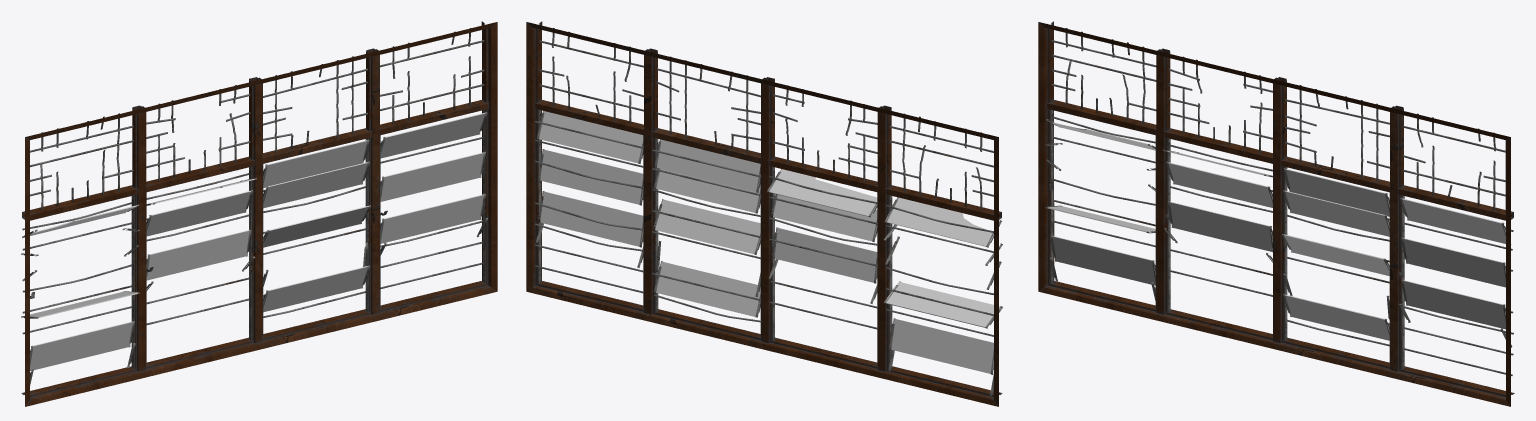
The model's file is 333_windowframe_3.FBX.
The picture shows the model from 3 angles, left to right: view 1: azimuth 30°, elevation 25°; view 2: azimuth 150°, elevation 25°; view 3: azimuth 330°, elevation 25°; orthographic projection.
Visible parts, largest first — view 1: 333_windowframe_3; view 2: 333_windowframe_3; view 3: 333_windowframe_3.
Boxes of the visible parts, x1=… form: 333_windowframe_3: x1=21, y1=21, x2=497, y2=406; 333_windowframe_3: x1=526, y1=21, x2=1002, y2=406; 333_windowframe_3: x1=1038, y1=21, x2=1514, y2=406.
Size of the model in its own units: 351 by 192 by 19.77.
